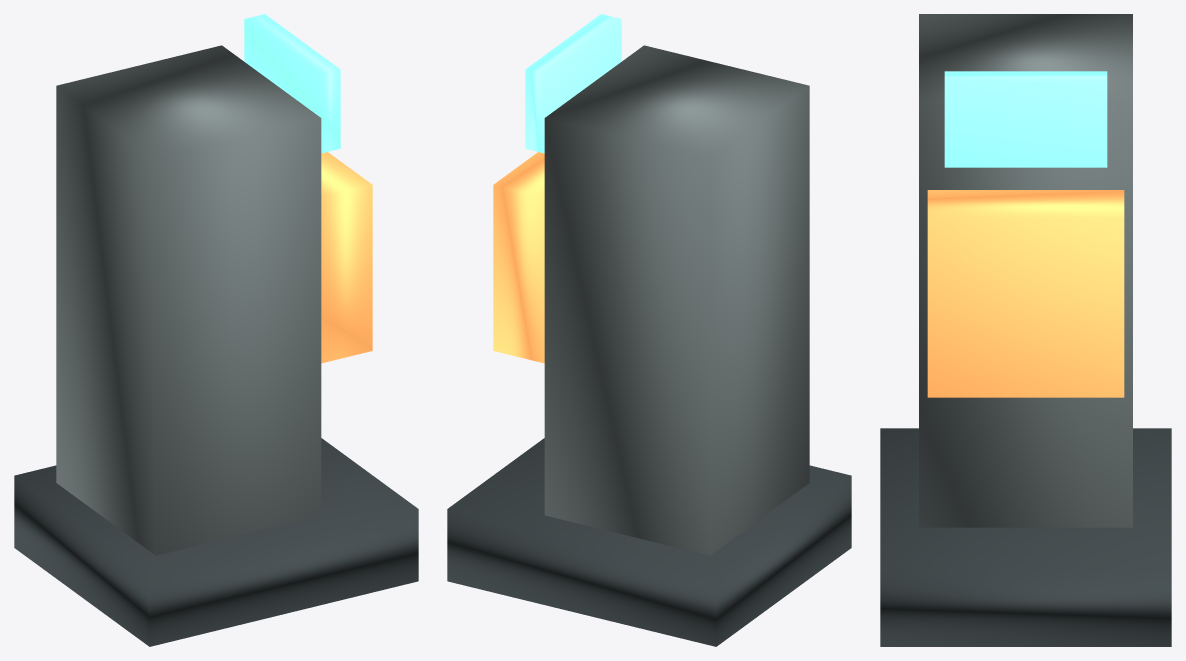
Rendered from spin-habitat-pressure-lock-lod2.glb.
The picture shows the model from 3 angles, left to right: view 1: azimuth 30°, elevation 25°; view 2: azimuth 150°, elevation 25°; view 3: azimuth 270°, elevation 25°; orthographic projection. The views are drawn at different scales.
Visible parts, largest first — view 1: spin-habitat-pressure-lock-column, spin-habitat-pressure-lock-base, spin-habitat-pressure-lock-wheel, spin-habitat-interactable-status; view 2: spin-habitat-pressure-lock-column, spin-habitat-pressure-lock-base, spin-habitat-pressure-lock-wheel, spin-habitat-interactable-status; view 3: spin-habitat-pressure-lock-column, spin-habitat-pressure-lock-base, spin-habitat-pressure-lock-wheel, spin-habitat-interactable-status.
Part boxes in pixels (x1,y1,x2,y2): spin-habitat-pressure-lock-column: (56,45,321,555); spin-habitat-pressure-lock-base: (14,438,418,646); spin-habitat-pressure-lock-wheel: (321,152,372,363); spin-habitat-interactable-status: (244,14,340,153); spin-habitat-pressure-lock-column: (544,45,809,555); spin-habitat-pressure-lock-base: (447,438,851,646); spin-habitat-pressure-lock-wheel: (493,152,544,363); spin-habitat-interactable-status: (525,14,621,153); spin-habitat-pressure-lock-column: (919,14,1132,527); spin-habitat-pressure-lock-base: (880,428,1171,646); spin-habitat-pressure-lock-wheel: (927,190,1124,397); spin-habitat-interactable-status: (944,71,1107,167).
Bounding box in the file's own units: 0.78 × 1.39 × 0.68.
